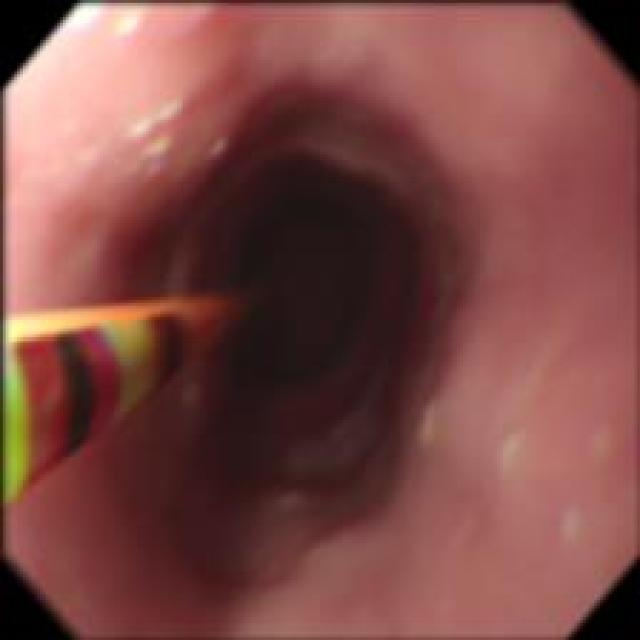blur: (1, 2, 638, 638), (156, 109, 472, 581), (4, 295, 265, 502)
color misalignment: (2, 292, 239, 505)
contrast: (152, 111, 474, 591)
instrument: (9, 291, 266, 504)
saturation: (1, 0, 140, 104), (5, 305, 79, 338)
